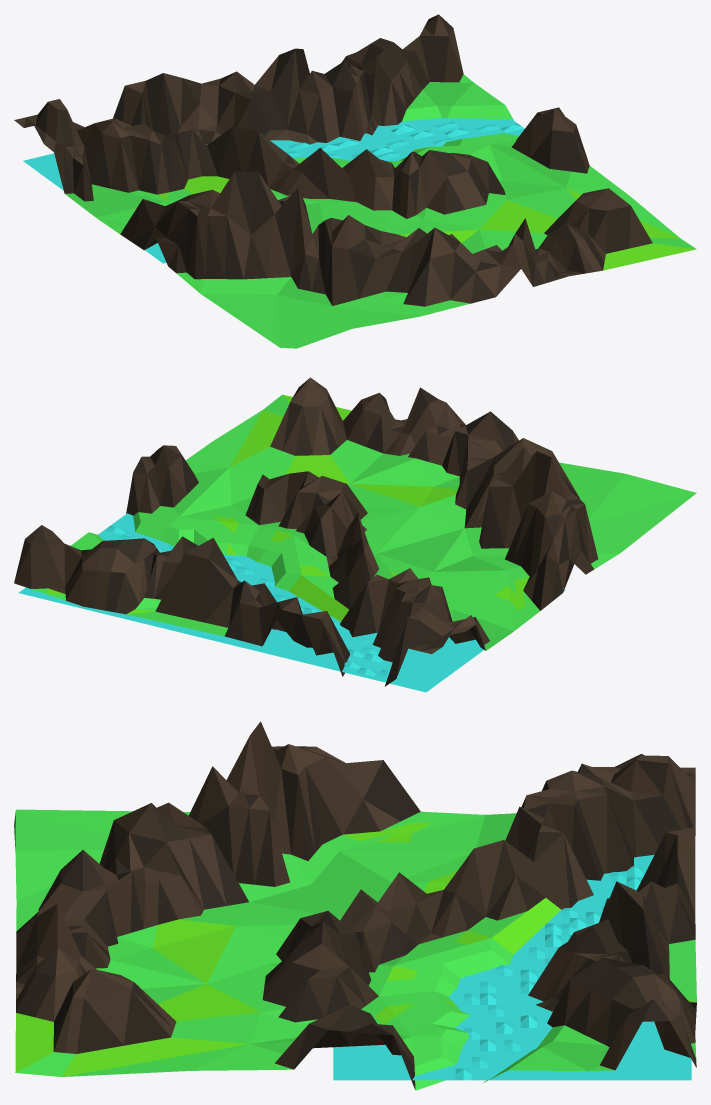
Rendered from Terrain.fbx.
The picture shows the model from 3 angles, top to bottom: view 1: azimuth 30°, elevation 25°; view 2: azimuth 150°, elevation 25°; view 3: azimuth 270°, elevation 25°; orthographic projection. The views are drawn at different scales.
Visible parts, largest first — view 1: Cube_Cube.002, Plane; view 2: Cube_Cube.002, Plane; view 3: Cube_Cube.002, Plane.
Boxes of the visible parts, box(x1,y1,x2,y2) form: Cube_Cube.002: box(14, 14, 696, 348); Plane: box(23, 118, 524, 263); Cube_Cube.002: box(14, 377, 696, 686); Plane: box(19, 513, 565, 692); Cube_Cube.002: box(14, 721, 696, 1090); Plane: box(333, 855, 691, 1080).
Bounding box in the file's own units: 9073 × 2258 × 9966.
